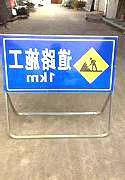sign: (2, 35, 113, 92)
